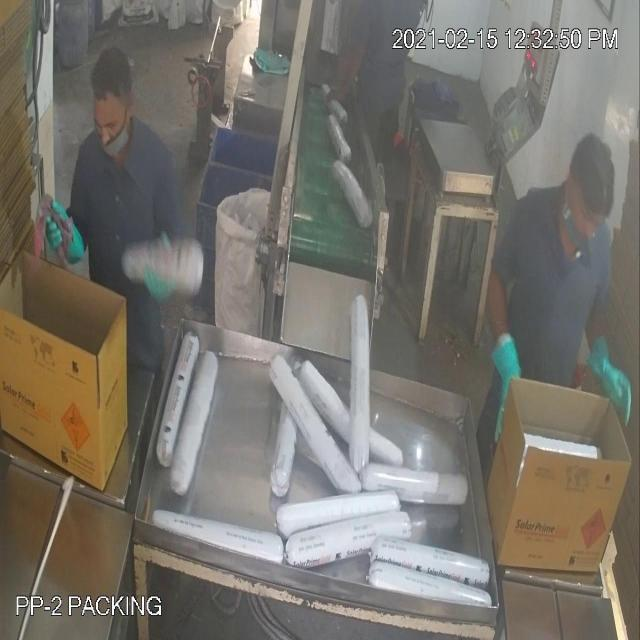Gloves: (37, 68, 615, 380)
